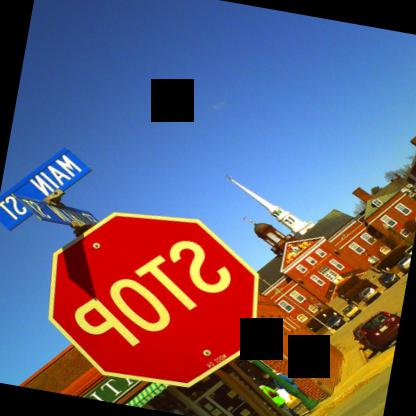handbag: (264, 385, 276, 395)
